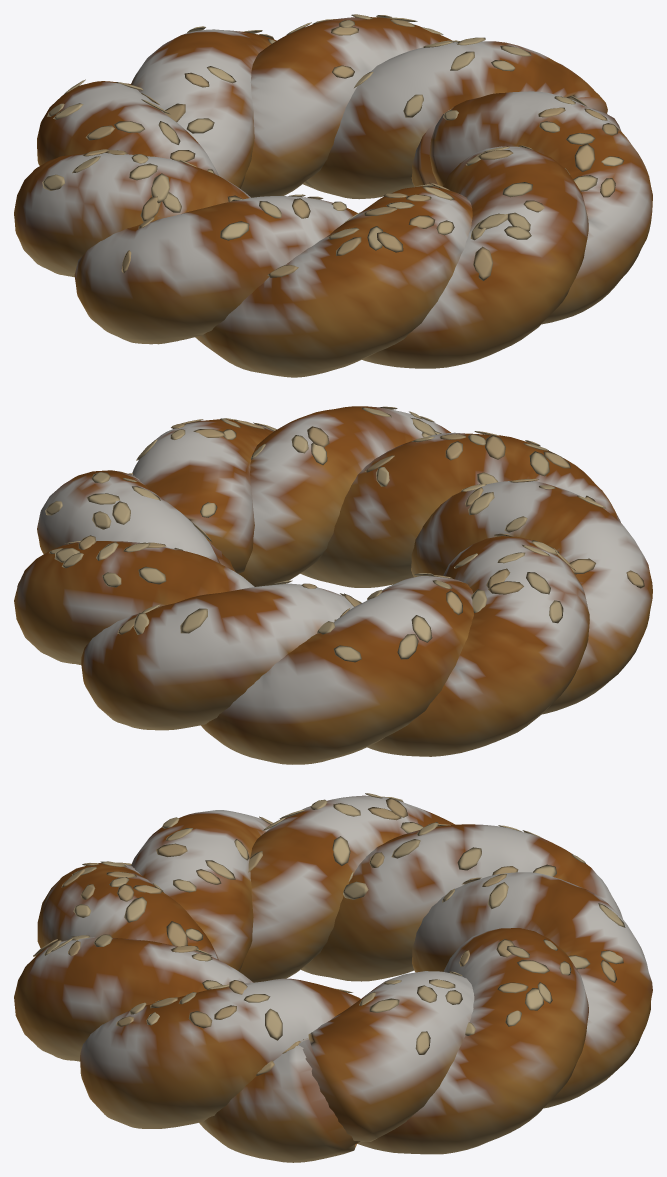
File: kranzkuchen-ungefuellt.glb
3 renders of one model, top to bottom at view 1: azimuth 30°, elevation 25°; view 2: azimuth 150°, elevation 25°; view 3: azimuth 270°, elevation 25°, orthographic.
Visible parts, largest first — view 1: kranzkuchen-ungefuellt; view 2: kranzkuchen-ungefuellt; view 3: kranzkuchen-ungefuellt.
Boxes of the visible parts, x1,y1,x2,y2 form: kranzkuchen-ungefuellt: [14, 14, 652, 377]; kranzkuchen-ungefuellt: [14, 406, 652, 764]; kranzkuchen-ungefuellt: [14, 793, 652, 1162].
Bounding box in the file's own units: 0.26 × 0.0708 × 0.26.
